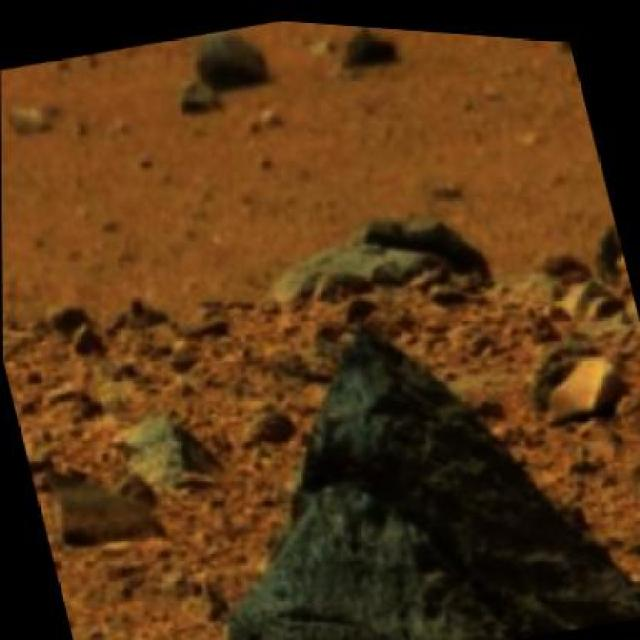rock: (158, 250, 638, 638), (248, 183, 502, 335), (46, 458, 183, 570), (542, 340, 638, 431), (199, 21, 287, 99), (346, 20, 417, 80)
